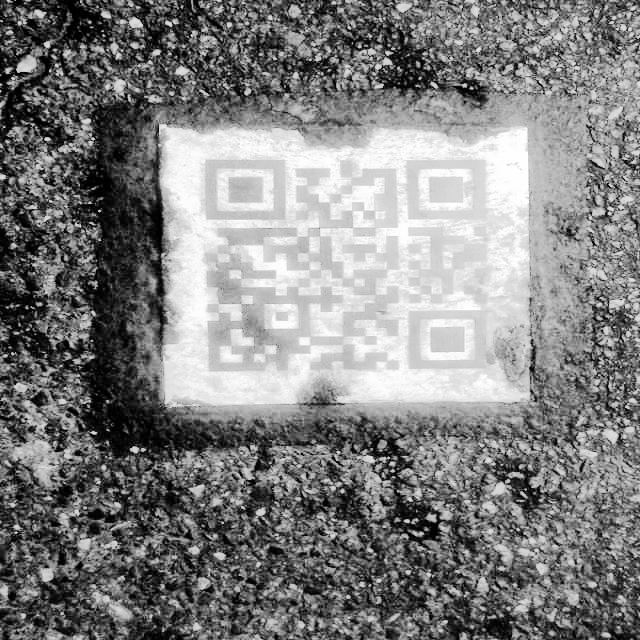qr_code: (206, 160, 485, 371)
